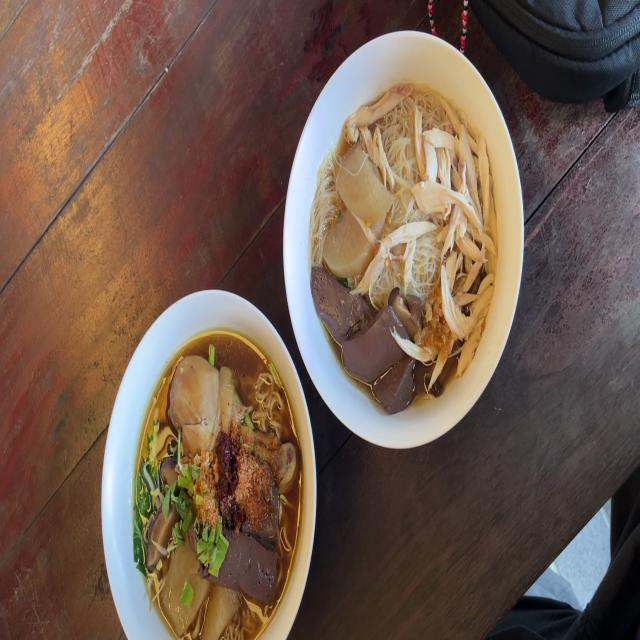noodle: (313, 273, 415, 409), (188, 524, 279, 598), (262, 467, 278, 539)
